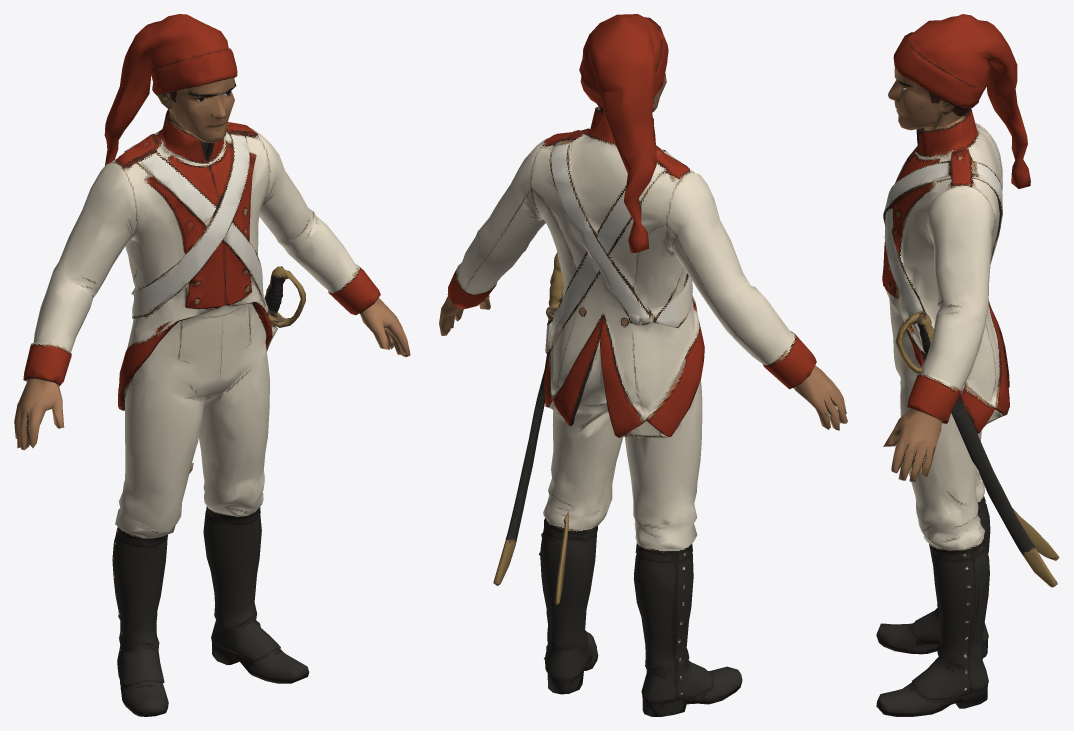
Rendered from sableador.glb.
The picture shows the model from 3 angles, left to right: view 1: azimuth 30°, elevation 25°; view 2: azimuth 150°, elevation 25°; view 3: azimuth 270°, elevation 25°; orthographic projection. The views are drawn at different scales.
Visible parts, largest first — view 1: tripo_node_e080c12c-2f2d-47d2-81a4-0d4828ec4403; view 2: tripo_node_e080c12c-2f2d-47d2-81a4-0d4828ec4403; view 3: tripo_node_e080c12c-2f2d-47d2-81a4-0d4828ec4403.
Part boxes in pixels (x1=…): tripo_node_e080c12c-2f2d-47d2-81a4-0d4828ec4403: x1=14, y1=14, x2=410, y2=716; tripo_node_e080c12c-2f2d-47d2-81a4-0d4828ec4403: x1=439, y1=14, x2=847, y2=716; tripo_node_e080c12c-2f2d-47d2-81a4-0d4828ec4403: x1=876, y1=14, x2=1059, y2=716.
Size of the model in its own units: 0.6173 by 1 by 0.2523.
Materials: 1 (1 with a texture image).
